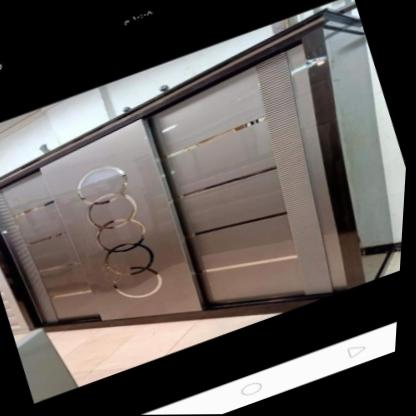Ceramic floor: (49, 314, 285, 392)
Closet: (0, 11, 400, 328)
